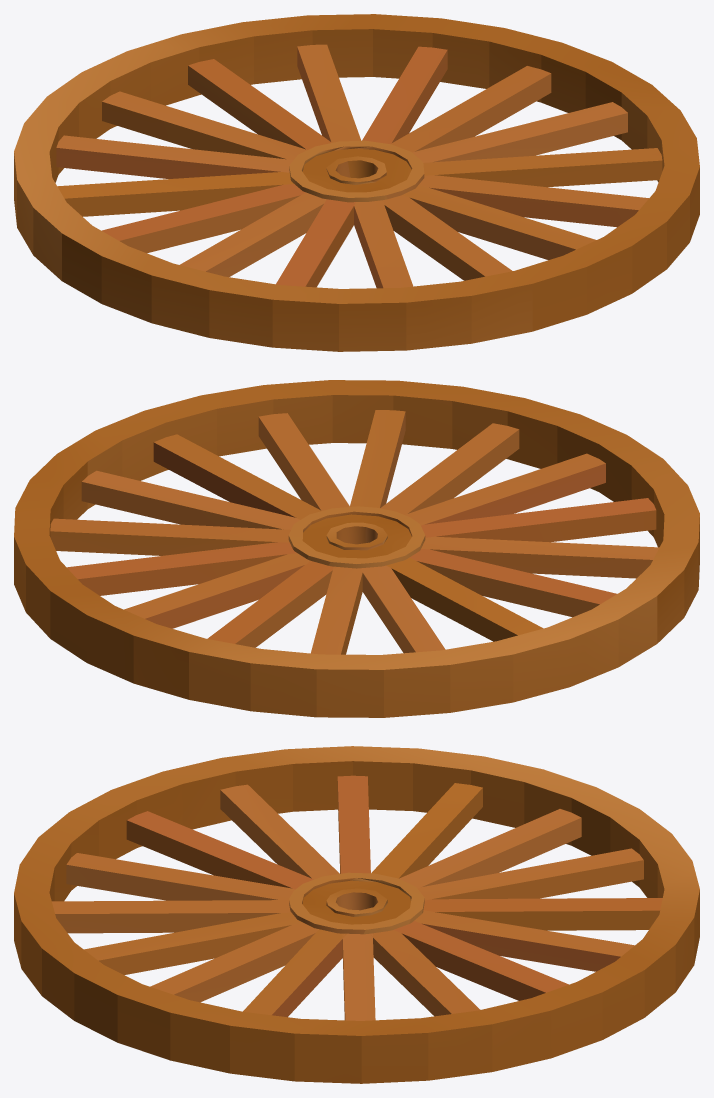
Rendered from wagon_wheel.glb.
3 renders of one model, top to bottom at view 1: azimuth 30°, elevation 25°; view 2: azimuth 150°, elevation 25°; view 3: azimuth 270°, elevation 25°, orthographic.
Parts seen in each view (by area): view 1: wagon_wheel; view 2: wagon_wheel; view 3: wagon_wheel.
Boxes of the visible parts, x1,y1,x2,y2 form: wagon_wheel: (14, 14, 699, 351); wagon_wheel: (14, 380, 699, 717); wagon_wheel: (14, 746, 699, 1083).
Size of the model in its own units: 1.63 by 0.1255 by 1.63.
Materials: 1 (1 with a texture image).
